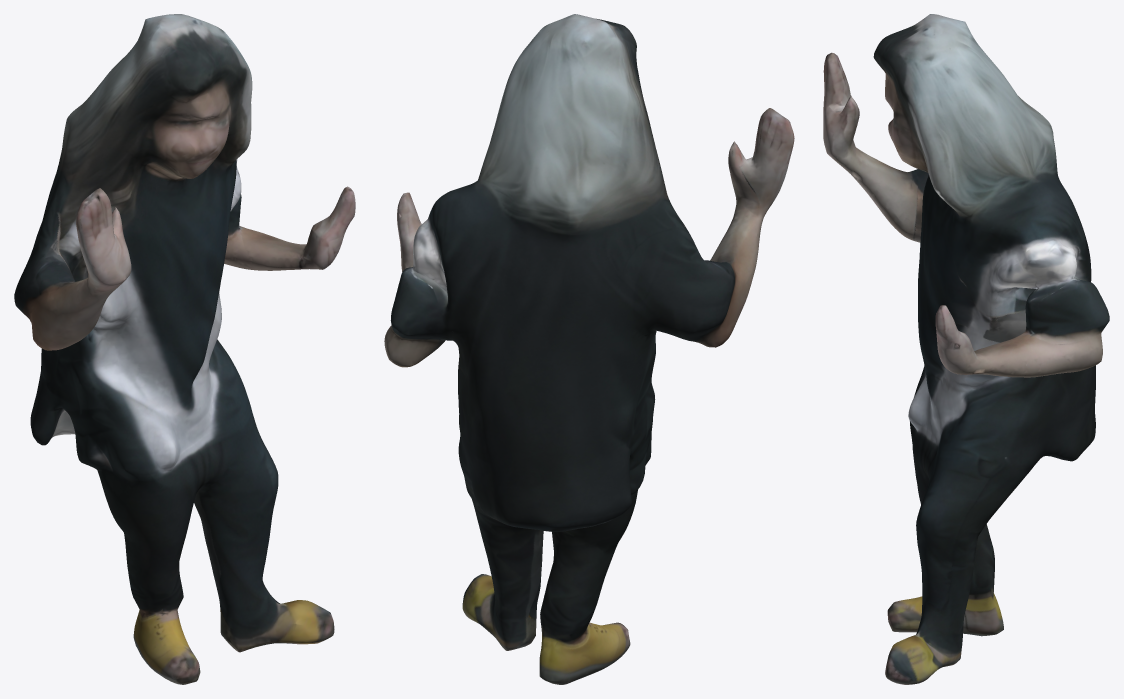
The model's file is ali.glb.
The picture shows the model from 3 angles, left to right: view 1: azimuth 30°, elevation 25°; view 2: azimuth 150°, elevation 25°; view 3: azimuth 270°, elevation 25°; orthographic projection. The views are drawn at different scales.
Bounding box in the file's own units: 0.6537 × 1.2 × 0.5076.
1 material, 1 textured.
